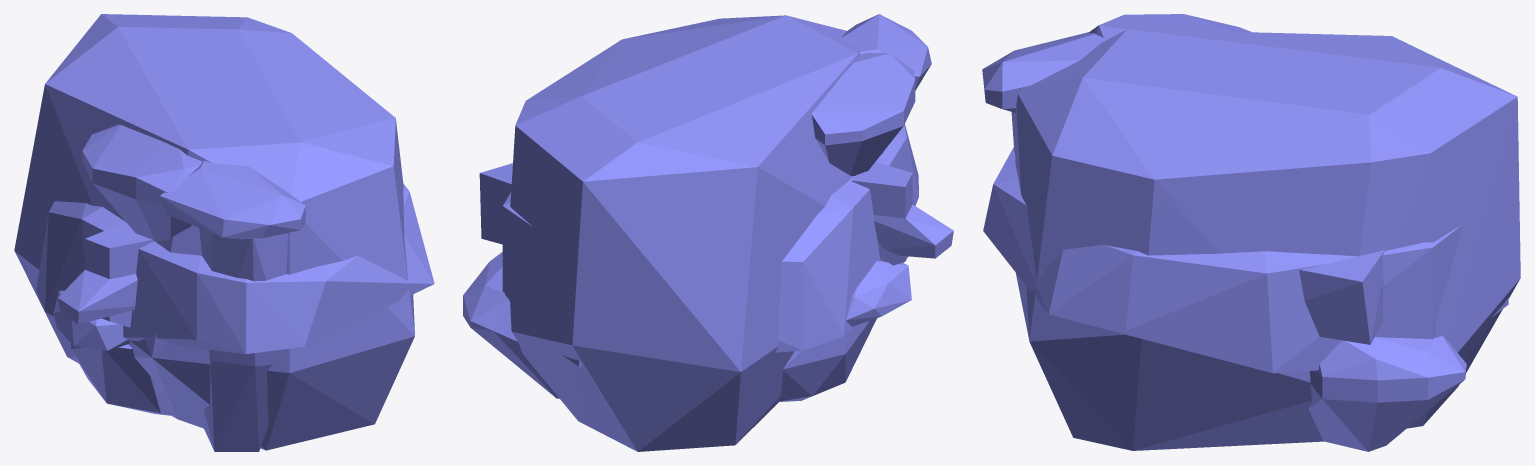
The model's file is Ledge_01_Collider_01.FBX.
The picture shows the model from 3 angles, left to right: view 1: azimuth 30°, elevation 25°; view 2: azimuth 150°, elevation 25°; view 3: azimuth 270°, elevation 25°; orthographic projection. The views are drawn at different scales.
Parts seen in each view (by area): view 1: COLLIDER1, COLLIDER6, COLLIDER11, COLLIDER3, COLLIDER2, COLLIDER10, COLLIDER8, COLLIDER7, COLLIDER9; view 2: COLLIDER1, COLLIDER6, COLLIDER3, COLLIDER10, COLLIDER5, COLLIDER8, COLLIDER2, COLLIDER9, COLLIDER7, COLLIDER4; view 3: COLLIDER1, COLLIDER6, COLLIDER5, COLLIDER4, COLLIDER2, COLLIDER3.
Part boxes in pixels (x1,y1,x2,y2): COLLIDER1: [14, 14, 414, 450]; COLLIDER6: [36, 184, 434, 353]; COLLIDER11: [199, 228, 287, 451]; COLLIDER3: [82, 124, 202, 241]; COLLIDER2: [160, 161, 305, 238]; COLLIDER10: [70, 343, 176, 415]; COLLIDER8: [58, 270, 137, 324]; COLLIDER7: [85, 223, 153, 327]; COLLIDER9: [50, 290, 129, 350]; COLLIDER1: [505, 15, 908, 451]; COLLIDER6: [502, 124, 918, 366]; COLLIDER3: [812, 52, 915, 175]; COLLIDER10: [776, 318, 876, 402]; COLLIDER5: [463, 252, 559, 398]; COLLIDER8: [873, 205, 953, 258]; COLLIDER2: [842, 14, 931, 90]; COLLIDER9: [846, 260, 911, 326]; COLLIDER7: [851, 162, 912, 265]; COLLIDER4: [479, 163, 512, 244]; COLLIDER1: [1015, 29, 1520, 450]; COLLIDER6: [983, 147, 1508, 373]; COLLIDER5: [1308, 336, 1466, 451]; COLLIDER4: [1299, 250, 1384, 344]; COLLIDER2: [982, 32, 1107, 112]; COLLIDER3: [1088, 14, 1251, 39].
Size of the model in its own units: 164 by 127 by 192.
